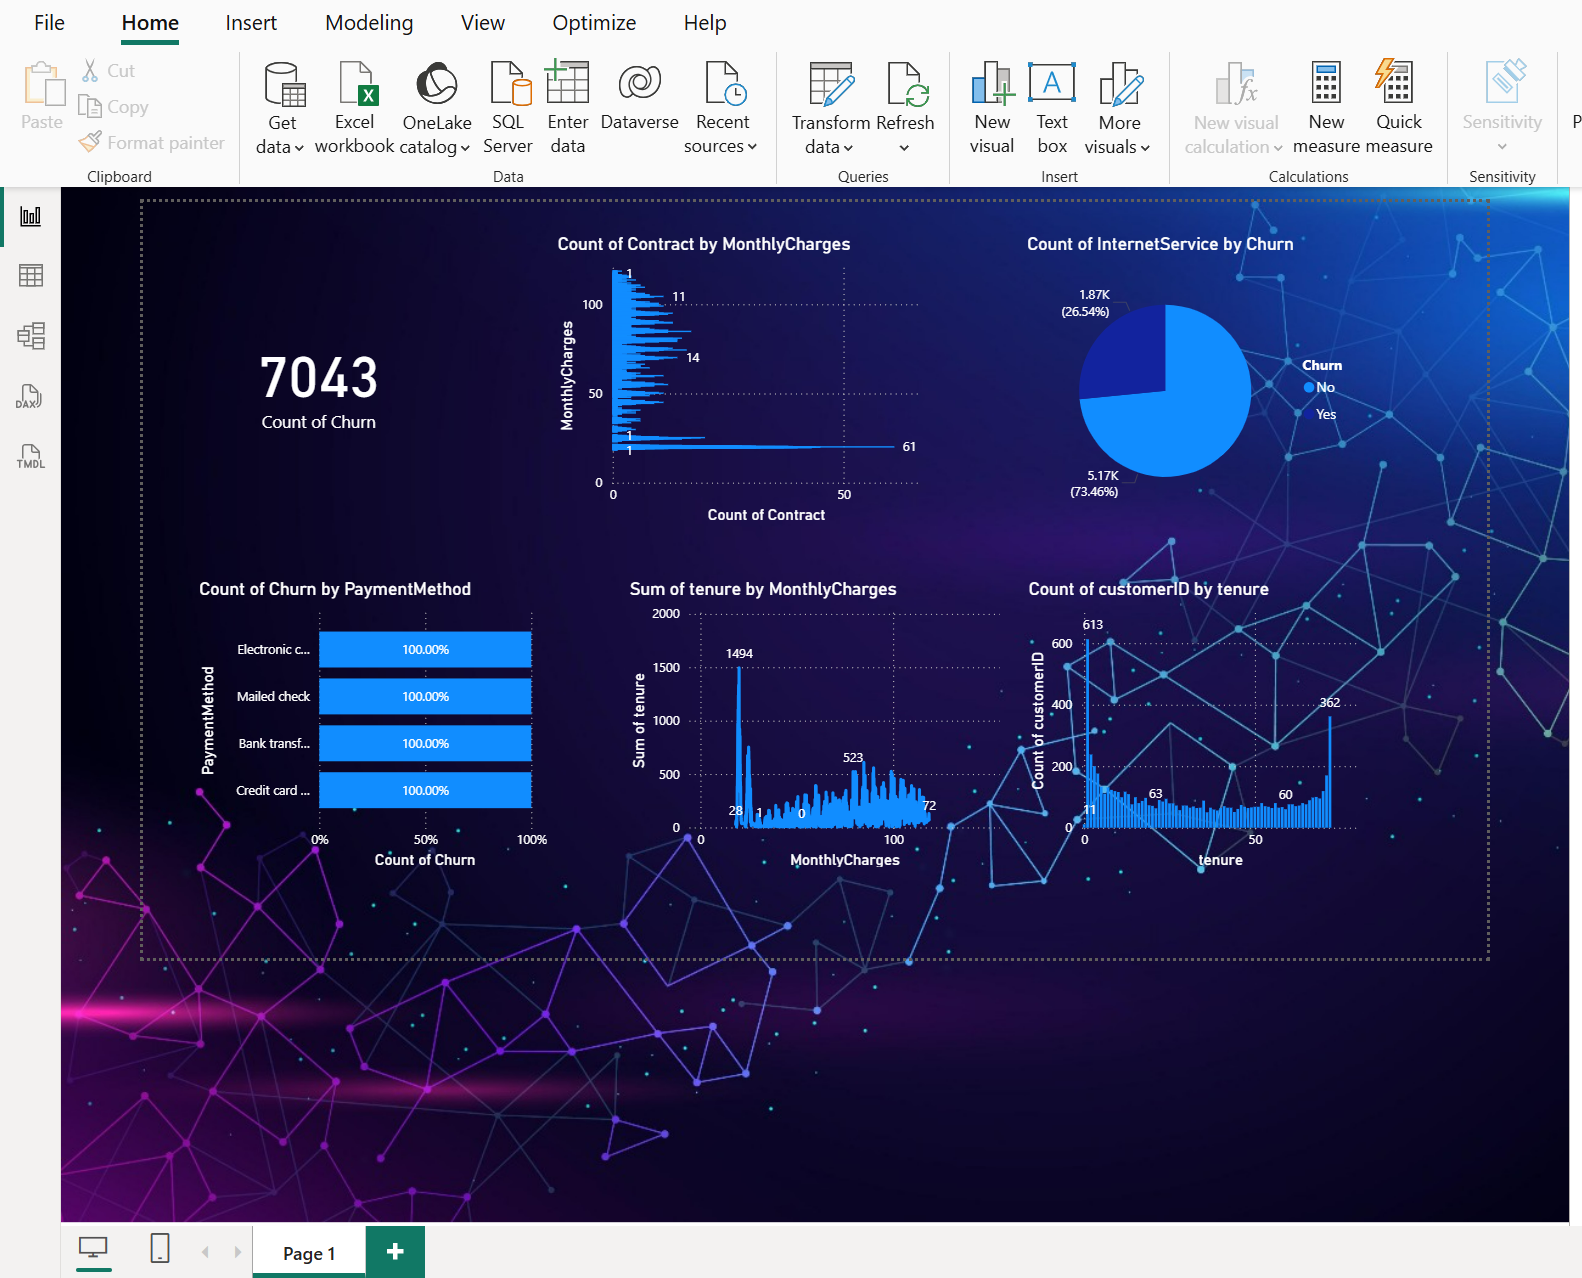

Layout of this report page (visuals, bound fields, positions):
{"tool":"powerbi","page":{"name":"Page 1","canvas":[1280,720],"ordinal":0},"visuals":[{"type":"card","fields":{"Values":["CountNonNull(Telco-Customer-Churn.Churn)"]},"box":[27.5,30.6,279.7,279.7],"z":0},{"type":"clusteredBarChart","fields":{"Y":["CountNonNull(Telco-Customer-Churn.Contract)"],"Category":["Telco-Customer-Churn.MonthlyCharges"]},"box":[389.8,30.6,362.3,279.7],"z":1},{"type":"pieChart","fields":{"Y":["CountNonNull(Telco-Customer-Churn.InternetService)"],"Category":["Telco-Customer-Churn.Churn"]},"box":[837.7,30.6,330.2,279.7],"z":2},{"type":"hundredPercentStackedBarChart","fields":{"Category":["Telco-Customer-Churn.PaymentMethod"],"Y":["CountNonNull(Telco-Customer-Churn.Churn)"]},"box":[48.9,359.2,340.9,279.7],"z":3},{"type":"lineChart","fields":{"Y":["Sum(Telco-Customer-Churn.tenure)"],"Category":["Telco-Customer-Churn.MonthlyCharges"]},"box":[458.6,359.2,362.3,279.7],"z":4},{"type":"clusteredColumnChart","fields":{"Category":["Telco-Customer-Churn.tenure"],"Y":["Count(Telco-Customer-Churn.customerID)"]},"box":[838,359,330,280],"z":5}]}

Visuals, with their boxes on the page's 1280x720 design canvas (x1, y1, x2, y2). These are canvas units, not pixel positions in the 1582x1278 screenshot, which may show the page scaled, cropped or inside an application window:
card - CountNonNull(Telco-Customer-Churn.Churn): bbox=[28, 31, 307, 310]
clusteredBarChart - CountNonNull(Telco-Customer-Churn.Contract) x Telco-Customer-Churn.MonthlyCharges: bbox=[390, 31, 752, 310]
pieChart - CountNonNull(Telco-Customer-Churn.InternetService) x Telco-Customer-Churn.Churn: bbox=[838, 31, 1168, 310]
hundredPercentStackedBarChart - Telco-Customer-Churn.PaymentMethod x CountNonNull(Telco-Customer-Churn.Churn): bbox=[49, 359, 390, 639]
lineChart - Sum(Telco-Customer-Churn.tenure) x Telco-Customer-Churn.MonthlyCharges: bbox=[459, 359, 821, 639]
clusteredColumnChart - Telco-Customer-Churn.tenure x Count(Telco-Customer-Churn.customerID): bbox=[838, 359, 1168, 639]
